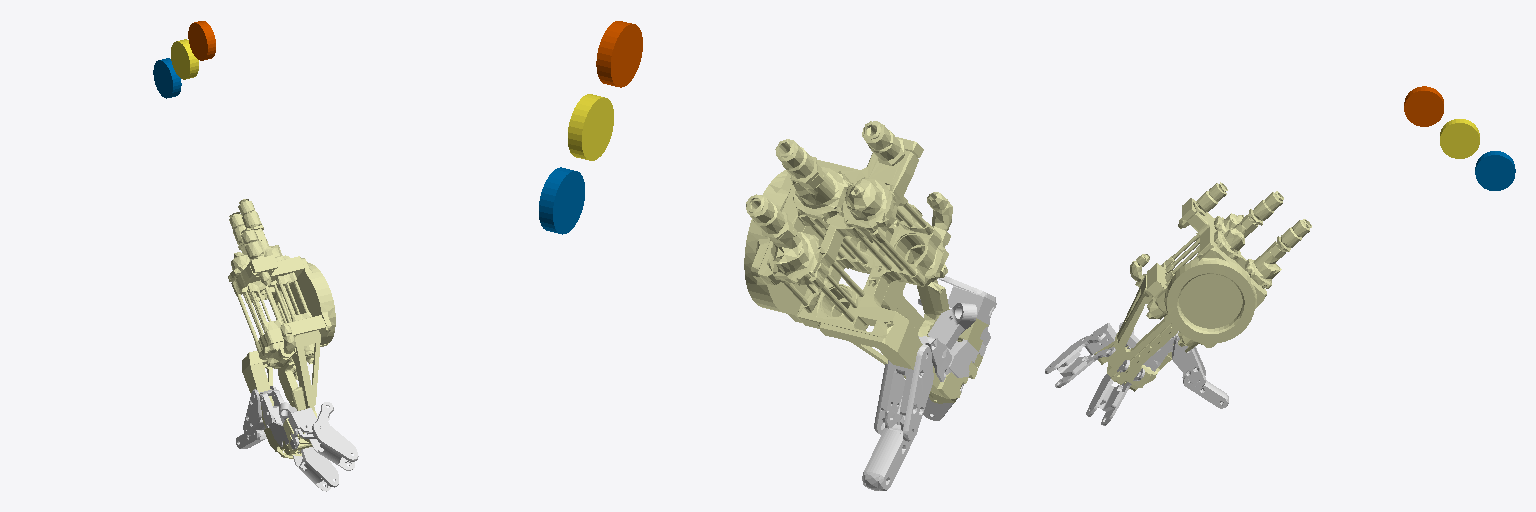
--- What the picture shows (computed from the rendered views, not written in the file) ---
Views: 3 orthographic renders of the robot side by side, from view 1: azimuth 30°, elevation 25°; view 2: azimuth 150°, elevation 25°; view 3: azimuth 270°, elevation 25°.
Robot: panda — 30 links, 29 joints (17 revolute, 12 fixed); root link panda_link0; default pose: joints at zero except 4 at the middle of their limits (panda_joint4 = -1.57, left_thumb_flex_motor_joint = -1.19, left_thumb_swivel_motor_joint = -1.18, left_index_flex_motor_joint = -1.19).
Visible links, largest first — view 1: left_gripper_base, left_middle_knuckle, left_index_knuckle, left_index_base_connector, left_index_flex_motor, left_thumb_flex_motor, left_thumb_swivel_motor, left_thumb_knuckle, left_thumb_base; view 2: left_gripper_base, left_thumb_knuckle, left_thumb_flex_motor, left_index_flex_motor, left_thumb_swivel_motor, left_thumb_finger, left_index_base_connector, left_thumb_swivel_link, left_thumb_base; view 3: left_gripper_base, left_middle_knuckle, left_index_flex_motor, left_thumb_flex_motor, left_thumb_swivel_motor, left_index_knuckle, left_thumb_knuckle, left_thumb_finger.
Link boxes in pixels (x1,y1,x2,y2): left_gripper_base: (228, 199, 335, 458); left_middle_knuckle: (309, 402, 358, 470); left_index_knuckle: (293, 447, 338, 491); left_index_base_connector: (269, 408, 320, 453); left_index_flex_motor: (188, 21, 215, 60); left_thumb_flex_motor: (171, 39, 198, 79); left_thumb_swivel_motor: (153, 58, 181, 98); left_thumb_knuckle: (243, 386, 276, 435); left_thumb_base: (259, 389, 283, 427); left_gripper_base: (744, 121, 988, 403); left_thumb_knuckle: (874, 344, 933, 441); left_thumb_flex_motor: (568, 94, 613, 160); left_index_flex_motor: (596, 21, 642, 87); left_thumb_swivel_motor: (539, 167, 584, 234); left_thumb_finger: (862, 405, 913, 490); left_index_base_connector: (947, 286, 996, 377); left_thumb_swivel_link: (928, 303, 976, 349); left_thumb_base: (918, 336, 953, 381); left_gripper_base: (1094, 182, 1311, 391); left_middle_knuckle: (1045, 333, 1115, 387); left_index_flex_motor: (1404, 86, 1443, 126); left_thumb_flex_motor: (1440, 119, 1479, 158); left_thumb_swivel_motor: (1475, 151, 1515, 190); left_index_knuckle: (1086, 360, 1144, 425); left_thumb_knuckle: (1172, 336, 1205, 386); left_thumb_finger: (1182, 374, 1228, 408).
Size in the robot's own frame: 0.0904 by 0.4684 by 0.3875 metres.
8 mesh visuals loaded from 16 distinct referenced files (7 OBJ); not drawn: 10 (reference not matched to a file when rendering).

robot.urdf — panda:
<?xml version="1.0" ?>
<!-- =================================================================================== -->
<!-- |    This document was autogenerated by xacro from panda.urdf.xacro               | -->
<!-- |    EDITING THIS FILE BY HAND IS NOT RECOMMENDED                                 | -->
<!-- =================================================================================== -->
<robot name="panda">
  <!-- sub-link defining detailed meshes for collision with environment -->
  <link name="panda_link0">
    <visual>
      <geometry>
        <mesh filename="package://avatar_robot_description/meshes/visual/link0.dae"/>
      </geometry>
    </visual>
    <collision>
      <geometry>
        <mesh filename="package://avatar_robot_description/meshes/collision/link0.stl"/>
      </geometry>
    </collision>
  </link>
  <!-- sub-link defining coarse geometries of real robot's internal self-collision -->
  <link name="panda_link0_sc">
    <collision>
      <origin rpy="0 1.5707963267948966 0" xyz="-0.075 0 0.06"/>
      <geometry>
        <cylinder length="0.03" radius="0.09"/>
      </geometry>
    </collision>
    <collision>
      <origin xyz="-0.06 0 0.06"/>
      <geometry>
        <sphere radius="0.09"/>
      </geometry>
    </collision>
    <collision>
      <origin xyz="-0.09 0 0.06"/>
      <geometry>
        <sphere radius="0.09"/>
      </geometry>
    </collision>
  </link>
  <!-- fixed joint between both sub-links -->
  <joint name="panda_link0_sc_joint" type="fixed">
    <origin rpy="0 0 0"/>
    <parent link="panda_link0"/>
    <child link="panda_link0_sc"/>
  </joint>
  <!-- sub-link defining detailed meshes for collision with environment -->
  <link name="panda_link1">
    <visual>
      <geometry>
        <mesh filename="package://avatar_robot_description/meshes/visual/link1.dae"/>
      </geometry>
    </visual>
    <collision>
      <geometry>
        <mesh filename="package://avatar_robot_description/meshes/collision/link1.stl"/>
      </geometry>
    </collision>
  </link>
  <!-- sub-link defining coarse geometries of real robot's internal self-collision -->
  <link name="panda_link1_sc">
    <collision>
      <origin rpy="0 0 0" xyz="0 0 -0.1915"/>
      <geometry>
        <cylinder length="0.283" radius="0.09"/>
      </geometry>
    </collision>
    <collision>
      <origin xyz="0 0 -0.05000000000000002"/>
      <geometry>
        <sphere radius="0.09"/>
      </geometry>
    </collision>
    <collision>
      <origin xyz="0 0 -0.33299999999999996"/>
      <geometry>
        <sphere radius="0.09"/>
      </geometry>
    </collision>
  </link>
  <!-- fixed joint between both sub-links -->
  <joint name="panda_link1_sc_joint" type="fixed">
    <origin rpy="0 0 0"/>
    <parent link="panda_link1"/>
    <child link="panda_link1_sc"/>
  </joint>
  <joint name="panda_joint1" type="revolute">
    <origin rpy="0 0 0" xyz="0 0 0.333"/>
    <parent link="panda_link0"/>
    <child link="panda_link1"/>
    <axis xyz="0 0 1"/>
    <limit effort="87.0" lower="-2.8973" upper="2.8973" velocity="2.175"/>
    <safety_controller k_position="100.0" k_velocity="40.0" soft_lower_limit="-2.8973" soft_upper_limit="2.8973"/>
    <dynamics D="1" K="7000" damping="0.003" friction="0.0" mu_coulomb="0" mu_viscous="16"/>
  </joint>
  <!-- sub-link defining detailed meshes for collision with environment -->
  <link name="panda_link2">
    <visual>
      <geometry>
        <mesh filename="package://avatar_robot_description/meshes/visual/link2.dae"/>
      </geometry>
    </visual>
    <collision>
      <geometry>
        <mesh filename="package://avatar_robot_description/meshes/collision/link2.stl"/>
      </geometry>
    </collision>
  </link>
  <!-- sub-link defining coarse geometries of real robot's internal self-collision -->
  <link name="panda_link2_sc">
    <collision>
      <origin rpy="0 0 0" xyz="0 0 0"/>
      <geometry>
        <cylinder length="0.12" radius="0.09"/>
      </geometry>
    </collision>
    <collision>
      <origin xyz="0 0 0.06"/>
      <geometry>
        <sphere radius="0.09"/>
      </geometry>
    </collision>
    <collision>
      <origin xyz="0 0 -0.06"/>
      <geometry>
        <sphere radius="0.09"/>
      </geometry>
    </collision>
  </link>
  <!-- fixed joint between both sub-links -->
  <joint name="panda_link2_sc_joint" type="fixed">
    <origin rpy="0 0 0"/>
    <parent link="panda_link2"/>
    <child link="panda_link2_sc"/>
  </joint>
  <joint name="panda_joint2" type="revolute">
    <origin rpy="-1.5707963267948966 0 0" xyz="0 0 0"/>
    <parent link="panda_link1"/>
    <child link="panda_link2"/>
    <axis xyz="0 0 1"/>
    <limit effort="87.0" lower="-1.7628" upper="1.7628" velocity="2.175"/>
    <safety_controller k_position="100.0" k_velocity="40.0" soft_lower_limit="-1.7628" soft_upper_limit="1.7628"/>
    <dynamics D="1" K="7000" damping="0.003" friction="0.0" mu_coulomb="0" mu_viscous="16"/>
  </joint>
  <!-- sub-link defining detailed meshes for collision with environment -->
  <link name="panda_link3">
    <visual>
      <geometry>
        <mesh filename="package://avatar_robot_description/meshes/visual/link3.dae"/>
      </geometry>
    </visual>
    <collision>
      <geometry>
        <mesh filename="package://avatar_robot_description/meshes/collision/link3.stl"/>
      </geometry>
    </collision>
  </link>
  <!-- sub-link defining coarse geometries of real robot's internal self-collision -->
  <link name="panda_link3_sc">
    <collision>
      <origin rpy="0 0 0" xyz="0 0 -0.145"/>
      <geometry>
        <cylinder length="0.15" radius="0.09"/>
      </geometry>
    </collision>
    <collision>
      <origin xyz="0 0 -0.06999999999999999"/>
      <geometry>
        <sphere radius="0.09"/>
      </geometry>
    </collision>
    <collision>
      <origin xyz="0 0 -0.21999999999999997"/>
      <geometry>
        <sphere radius="0.09"/>
      </geometry>
    </collision>
  </link>
  <!-- fixed joint between both sub-links -->
  <joint name="panda_link3_sc_joint" type="fixed">
    <origin rpy="0 0 0"/>
    <parent link="panda_link3"/>
    <child link="panda_link3_sc"/>
  </joint>
  <joint name="panda_joint3" type="revolute">
    <origin rpy="1.5707963267948966 0 0" xyz="0 -0.316 0"/>
    <parent link="panda_link2"/>
    <child link="panda_link3"/>
    <axis xyz="0 0 1"/>
    <limit effort="87.0" lower="-2.8973" upper="2.8973" velocity="2.175"/>
    <safety_controller k_position="100.0" k_velocity="40.0" soft_lower_limit="-2.8973" soft_upper_limit="2.8973"/>
    <dynamics D="1" K="7000" damping="0.003" friction="0.0" mu_coulomb="0" mu_viscous="16"/>
  </joint>
  <!-- sub-link defining detailed meshes for collision with environment -->
  <link name="panda_link4">
    <visual>
      <geometry>
        <mesh filename="package://avatar_robot_description/meshes/visual/link4.dae"/>
      </geometry>
    </visual>
    <collision>
      <geometry>
        <mesh filename="package://avatar_robot_description/meshes/collision/link4.stl"/>
      </geometry>
    </collision>
  </link>
  <!-- sub-link defining coarse geometries of real robot's internal self-collision -->
  <link name="panda_link4_sc">
    <collision>
      <origin rpy="0 0 0" xyz="0 0 0"/>
      <geometry>
        <cylinder length="0.12" radius="0.09"/>
      </geometry>
    </collision>
    <collision>
      <origin xyz="0 0 0.06"/>
      <geometry>
        <sphere radius="0.09"/>
      </geometry>
    </collision>
    <collision>
      <origin xyz="0 0 -0.06"/>
      <geometry>
        <sphere radius="0.09"/>
      </geometry>
    </collision>
  </link>
  <!-- fixed joint between both sub-links -->
  <joint name="panda_link4_sc_joint" type="fixed">
    <origin rpy="0 0 0"/>
    <parent link="panda_link4"/>
    <child link="panda_link4_sc"/>
  </joint>
  <joint name="panda_joint4" type="revolute">
    <origin rpy="1.5707963267948966 0 0" xyz="0.0825 0 0"/>
    <parent link="panda_link3"/>
    <child link="panda_link4"/>
    <axis xyz="0 0 1"/>
    <limit effort="87.0" lower="-3.0718" upper="-0.0698" velocity="2.175"/>
    <safety_controller k_position="100.0" k_velocity="40.0" soft_lower_limit="-3.0718" soft_upper_limit="-0.0698"/>
    <dynamics D="1" K="7000" damping="0.003" friction="0.0" mu_coulomb="0" mu_viscous="16"/>
  </joint>
  <!-- sub-link defining detailed meshes for collision with environment -->
  <link name="panda_link5">
    <visual>
      <geometry>
        <mesh filename="package://avatar_robot_description/meshes/visual/link5.dae"/>
      </geometry>
    </visual>
    <collision>
      <geometry>
        <mesh filename="package://avatar_robot_description/meshes/collision/link5.stl"/>
      </geometry>
    </collision>
  </link>
  <!-- sub-link defining coarse geometries of real robot's internal self-collision -->
  <link name="panda_link5_sc">
    <collision>
      <origin rpy="0 0 0" xyz="0 0 -0.26"/>
      <geometry>
        <cylinder length="0.1" radius="0.09"/>
      </geometry>
    </collision>
    <collision>
      <origin xyz="0 0 -0.21000000000000002"/>
      <geometry>
        <sphere radius="0.09"/>
      </geometry>
    </collision>
    <collision>
      <origin xyz="0 0 -0.31"/>
      <geometry>
        <sphere radius="0.09"/>
      </geometry>
    </collision>
    <collision>
      <origin rpy="0 0 0.08" xyz="0 0.08 -0.13"/>
      <geometry>
        <cylinder length="0.14" radius="0.055"/>
      </geometry>
    </collision>
    <collision>
      <origin xyz="0 0.08 -0.06"/>
      <geometry>
        <sphere radius="0.055"/>
      </geometry>
    </collision>
    <collision>
      <origin xyz="0 0.08 -0.2"/>
      <geometry>
        <sphere radius="0.055"/>
      </geometry>
    </collision>
  </link>
  <!-- fixed joint between both sub-links -->
  <joint name="panda_link5_sc_joint" type="fixed">
    <origin rpy="0 0 0"/>
    <parent link="panda_link5"/>
    <child link="panda_link5_sc"/>
  </joint>
  <joint name="panda_joint5" type="revolute">
    <origin rpy="-1.5707963267948966 0 0" xyz="-0.0825 0.384 0"/>
    <parent link="panda_link4"/>
    <child link="panda_link5"/>
    <axis xyz="0 0 1"/>
    <limit effort="12.0" lower="-2.8973" upper="2.8973" velocity="2.61"/>
    <safety_controller k_position="100.0" k_velocity="40.0" soft_lower_limit="-2.8973" soft_upper_limit="2.8973"/>
    <dynamics D="1" K="7000" damping="0.003" friction="0.0" mu_coulomb="0" mu_viscous="16"/>
  </joint>
  <!-- sub-link defining detailed meshes for collision with environment -->
  <link name="panda_link6">
    <visual>
      <geometry>
        <mesh filename="package://avatar_robot_description/meshes/visual/link6.dae"/>
      </geometry>
    </visual>
    <collision>
      <geometry>
        <mesh filename="package://avatar_robot_description/meshes/collision/link6.stl"/>
      </geometry>
    </collision>
  </link>
  <!-- sub-link defining coarse geometries of real robot's internal self-collision -->
  <link name="panda_link6_sc">
    <collision>
      <origin rpy="0 0 0" xyz="0 0 -0.03"/>
      <geometry>
        <cylinder length="0.08" radius="0.08"/>
      </geometry>
    </collision>
    <collision>
      <origin xyz="0 0 0.010000000000000002"/>
      <geometry>
        <sphere radius="0.08"/>
      </geometry>
    </collision>
    <collision>
      <origin xyz="0 0 -0.07"/>
      <geometry>
        <sphere radius="0.08"/>
      </geometry>
    </collision>
  </link>
  <!-- fixed joint between both sub-links -->
  <joint name="panda_link6_sc_joint" type="fixed">
    <origin rpy="0 0 0"/>
    <parent link="panda_link6"/>
    <child link="panda_link6_sc"/>
  </joint>
  <joint name="panda_joint6" type="revolute">
    <origin rpy="1.5707963267948966 0 0" xyz="0 0 0"/>
    <parent link="panda_link5"/>
    <child link="panda_link6"/>
    <axis xyz="0 0 1"/>
    <limit effort="12.0" lower="-0.0175" upper="3.7525" velocity="2.61"/>
    <safety_controller k_position="100.0" k_velocity="40.0" soft_lower_limit="-0.0175" soft_upper_limit="3.7525"/>
    <dynamics D="1" K="7000" damping="0.003" friction="0.0" mu_coulomb="0" mu_viscous="16"/>
  </joint>
  <!-- sub-link defining detailed meshes for collision with environment -->
  <link name="panda_link7">
    <visual>
      <geometry>
        <mesh filename="package://avatar_robot_description/meshes/visual/link7.dae"/>
      </geometry>
    </visual>
    <collision>
      <geometry>
        <mesh filename="package://avatar_robot_description/meshes/collision/link7.stl"/>
      </geometry>
    </collision>
  </link>
  <!-- sub-link defining coarse geometries of real robot's internal self-collision -->
  <link name="panda_link7_sc">
    <collision>
      <origin rpy="0 0 0" xyz="0 0 0.01"/>
      <geometry>
        <cylinder length="0.14" radius="0.07"/>
      </geometry>
    </collision>
    <collision>
      <origin xyz="0 0 0.08"/>
      <geometry>
        <sphere radius="0.07"/>
      </geometry>
    </collision>
    <collision>
      <origin xyz="0 0 -0.060000000000000005"/>
      <geometry>
        <sphere radius="0.07"/>
      </geometry>
    </collision>
    <collision>
      <origin rpy="0 1.5707963267948966 0" xyz="0.06 0 0.082"/>
      <geometry>
        <cylinder length="0.01" radius="0.06"/>
      </geometry>
    </collision>
    <collision>
      <origin xyz="0.065 0 0.082"/>
      <geometry>
        <sphere radius="0.06"/>
      </geometry>
    </collision>
    <collision>
      <origin xyz="0.055 0 0.082"/>
      <geometry>
        <sphere radius="0.06"/>
      </geometry>
    </collision>
  </link>
  <!-- fixed joint between both sub-links -->
  <joint name="panda_link7_sc_joint" type="fixed">
    <origin rpy="0 0 0.7853981633974483"/>
    <parent link="panda_link7"/>
    <child link="panda_link7_sc"/>
  </joint>
  <joint name="panda_joint7" type="revolute">
    <origin rpy="1.5707963267948966 0 0" xyz="0.088 0 0"/>
    <parent link="panda_link6"/>
    <child link="panda_link7"/>
    <axis xyz="0 0 1"/>
    <limit effort="12.0" lower="-2.8973" upper="2.8973" velocity="2.61"/>
    <safety_controller k_position="100.0" k_velocity="40.0" soft_lower_limit="-2.8973" soft_upper_limit="2.8973"/>
    <dynamics D="1" K="7000" damping="0.003" friction="0.0" mu_coulomb="0" mu_viscous="16"/>
  </joint>
  <link name="panda_link8"/>
  <joint name="panda_joint8" type="fixed">
    <origin rpy="0 0 0" xyz="0 0 0.107"/>
    <parent link="panda_link7"/>
    <child link="panda_link8"/>
  </joint>
  <link name="left_thumb_base">
    <inertial>
      <mass value="0.5"/>
      <inertia ixx="0.0" ixy="0.0" ixz="0.0" iyy="4E-5" iyz="0.0" izz="4E-5"/>
    </inertial>
    <visual>
      <origin rpy="0 0 0" xyz="0 0 0"/>
      <geometry>
        <mesh filename="package://avatar_gripper_description/meshes/thumb_base_extra.obj"/>
      </geometry>
      <material name="">
        <color rgba="0.9 0.9 0.9 1"/>
      </material>
    </visual>
    <collision>
      <origin rpy="0 0 0" xyz="0 0 0"/>
      <geometry>
        <mesh filename="package://avatar_gripper_description/meshes/thumb_base_extra.obj"/>
      </geometry>
    </collision>
  </link>
  <link name="left_thumb_knuckle">
    <inertial>
      <mass value="0.5"/>
      <inertia ixx="0.0" ixy="0.0" ixz="0.0" iyy="4E-5" iyz="0.0" izz="4E-5"/>
    </inertial>
    <visual>
      <origin rpy="0 0 0" xyz="0 0 0"/>
      <geometry>
        <mesh filename="package://avatar_gripper_description/meshes/thumb_knuckle.obj"/>
      </geometry>
      <material name="">
        <color rgba="0.9 0.9 0.9 1"/>
      </material>
    </visual>
    <collision>
      <origin rpy="0 0 0" xyz="0 0 0"/>
      <geometry>
        <mesh filename="package://avatar_gripper_description/meshes/thumb_knuckle.obj"/>
      </geometry>
    </collision>
  </link>
  <joint name="left_thumb_knuckle_joint" type="revolute">
    <origin rpy="0 2.75 0" xyz="0 0 0"/>
    <parent link="left_thumb_base"/>
    <child link="left_thumb_knuckle"/>
    <axis xyz="0 1 0"/>
    <limit effort="1000" lower="-1.0" upper="0.4" velocity="2.0"/>
  </joint>
  <link name="left_thumb_finger">
    <inertial>
      <mass value="0.5"/>
      <inertia ixx="0.0" ixy="0.0" ixz="0.0" iyy="4E-5" iyz="0.0" izz="4E-5"/>
    </inertial>
    <visual>
      <origin rpy="0 0 0" xyz="0 0 0"/>
      <geometry>
        <mesh filename="package://avatar_gripper_description/meshes/thumb_fingertip.obj"/>
      </geometry>
      <material name="">
        <color rgba="0.9 0.9 0.9 1"/>
      </material>
    </visual>
    <collision>
      <origin rpy="0 0 0" xyz="0 0 0"/>
      <geometry>
        <mesh filename="package://avatar_gripper_description/meshes/thumb_fingertip.obj"/>
      </geometry>
    </collision>
  </link>
  <joint name="left_thumb_finger_joint" type="revolute">
    <origin rpy="0 0.57 0" xyz="0.04568 0 0.01106"/>
    <parent link="left_thumb_knuckle"/>
    <child link="left_thumb_finger"/>
    <axis xyz="0 1 0"/>
    <limit effort="1000" lower="-0.8" upper="0" velocity="2.0"/>
  </joint>
  <link name="left_thumb_swivel_link">
    <visual>
      <origin rpy="0 0 0" xyz="0 0 0"/>
      <geometry>
        <mesh filename="package://avatar_gripper_description/meshes/thumb_swivel_link.obj"/>
      </geometry>
      <material name="">
        <color rgba="0.9 0.9 0.9 1"/>
      </material>
    </visual>
  </link>
  <joint name="left_thumb_swivel_joint" type="revolute">
    <origin rpy="0 0 0" xyz="0 0 0.0173"/>
    <parent link="left_index_base_connector"/>
    <child link="left_thumb_swivel_link"/>
    <axis xyz="0 0 1"/>
    <limit effort="1000" lower="0" upper="1.7" velocity="2.0"/>
  </joint>
  <joint name="left_thumb_base_swivel_joint" type="fixed">
    <origin rpy="0 0 0" xyz="-0.03742 0 0.05089"/>
    <parent link="left_thumb_swivel_link"/>
    <child link="left_thumb_base"/>
  </joint>
  <link name="left_index_base_connector">
    <visual>
      <origin rpy="0 0 0" xyz="0 0 0"/>
      <geometry>
        <mesh filename="package://avatar_gripper_description/meshes/index_base_connector.obj"/>
      </geometry>
      <material name="">
        <color rgba="0.9 0.9 0.9 1"/>
      </material>
    </visual>
  </link>
  <link name="left_index_knuckle">
    <inertial>
      <mass value="0.5"/>
      <inertia ixx="0.0" ixy="0.0" ixz="0.0" iyy="4E-5" iyz="0.0" izz="4E-5"/>
    </inertial>
    <visual>
      <origin rpy="0 0 0" xyz="0 0 0"/>
      <geometry>
        <mesh filename="package://avatar_gripper_description/meshes/index_knuckle.obj"/>
      </geometry>
      <material name="">
        <color rgba="0.9 0.9 0.9 1"/>
      </material>
    </visual>
    <collision>
      <origin rpy="0 0 0" xyz="0 0 0"/>
      <geometry>
        <mesh filename="package://avatar_gripper_description/meshes/index_knuckle.obj"/>
      </geometry>
    </collision>
  </link>
  <joint name="left_index_knuckle_joint" type="revolute">
    <origin rpy="1.94428593 1.07478656 1.98996937" xyz="-0.021564878 0.008545 -0.0024358"/>
    <parent link="left_index_base_connector"/>
    <child link="left_index_knuckle"/>
    <axis xyz="0 0 1"/>
    <limit effort="1000" lower="-0.8" upper="0" velocity="2.0"/>
  </joint>
  <link name="left_index_fingertip">
    <inertial>
      <mass value="0.5"/>
      <inertia ixx="0.0" ixy="0.0" ixz="0.0" iyy="4E-5" iyz="0.0" izz="4E-5"/>
    </inertial>
    <visual>
      <origin rpy="0 0 0" xyz="0 0 0"/>
      <geometry>
        <mesh filename="package://avatar_gripper_description/meshes/index_fingertip.obj"/>
      </geometry>
      <material name="">
        <color rgba="0.9 0.9 0.9 1"/>
      </material>
    </visual>
    <collision>
      <origin rpy="0 0 0" xyz="0 0 0"/>
      <geometry>
        <mesh filename="package://avatar_gripper_description/meshes/index_fingertip.obj"/>
      </geometry>
    </collision>
  </link>
  <joint name="left_index_fingertip_joint" type="revolute">
    <origin rpy="0 0 -0.35" xyz="0.0353829 -0.02780 0"/>
    <parent link="left_index_knuckle"/>
    <child link="left_index_fingertip"/>
    <axis xyz="0 0 1"/>
    <limit effort="1000" lower="-0.8" upper="0" velocity="2.0"/>
  </joint>
  <link name="left_middle_knuckle">
    <inertial>
      <mass value="0.5"/>
      <inertia ixx="0.0" ixy="0.0" ixz="0.0" iyy="4E-5" iyz="0.0" izz="4E-5"/>
    </inertial>
    <visual>
      <origin rpy="0 0 0" xyz="0 0 0"/>
      <geometry>
        <mesh filename="package://avatar_gripper_description/meshes/index_knuckle.obj"/>
      </geometry>
      <material name="">
        <color rgba="0.9 0.9 0.9 1"/>
      </material>
    </visual>
    <collision>
      <origin rpy="0 0 0" xyz="0 0 0"/>
      <geometry>
        <mesh filename="package://avatar_gripper_description/meshes/index_knuckle.obj"/>
      </geometry>
    </collision>
  </link>
  <joint name="left_middle_knuckle_joint" type="revolute">
    <origin rpy="1.19730672 1.07478656 1.15162329" xyz="0.02156 0.008545 -0.0024358"/>
    <parent link="left_index_base_connector"/>
    <child link="left_middle_knuckle"/>
    <axis xyz="0 0 1"/>
    <limit effort="1000" lower="-0.8" upper="0" velocity="2.0"/>
  </joint>
  <link name="left_middle_fingertip">
    <inertial>
      <mass value="0.5"/>
      <inertia ixx="0.0" ixy="0.0" ixz="0.0" iyy="4E-5" iyz="0.0" izz="4E-5"/>
    </inertial>
    <visual>
      <origin rpy="0 0 0" xyz="0 0 0"/>
      <geometry>
        <mesh filename="package://avatar_gripper_description/meshes/index_fingertip.obj"/>
      </geometry>
      <material name="">
        <color rgba="0.9 0.9 0.9 1"/>
      </material>
    </visual>
    <collision>
      <origin rpy="0 0 0" xyz="0 0 0"/>
      <geometry>
        <mesh filename="package://avatar_gripper_description/meshes/index_fingertip.obj"/>
      </geometry>
    </collision>
  </link>
  <joint name="left_middle_fingertip_joint" type="revolute">
    <origin rpy="0 0 -0.35" xyz="0.0353829 -0.02780 0"/>
    <parent link="left_middle_knuckle"/>
    <child link="left_middle_fingertip"/>
    <axis xyz="0 0 1"/>
    <limit effort="1000" lower="-0.8" upper="0" velocity="2.0"/>
  </joint>
  <link name="left_gripper_base">
    <inertial>
      <mass value="2.0"/>
      <inertia ixx="7.11E-3" ixy="0.0" ixz="0.0" iyy="7.11E-3" iyz="0.0" izz="7.11E-3"/>
    </inertial>
    <visual>
      <origin rpy="0 0 0" xyz="0 0 0"/>
      <geometry>
        <mesh filename="package://avatar_gripper_description/meshes/gripper_base.obj"/>
      </geometry>
      <material name="">
        <color rgba="0.9 0.9 0.7 1"/>
      </material>
    </visual>
  </link>
  <joint name="left_gripper_base_joint" type="fixed">
    <origin rpy="1.57 0 0" xyz="0.00736 0.139 -0.066017"/>
    <parent link="left_gripper_base"/>
    <child link="left_index_base_connector"/>
  </joint>
  <link name="left_thumb_flex_motor">
    <inertial>
      <mass value="0.25"/>
      <inertia ixx="1.463E-04" ixy="0" ixz="0" iyy="1.463E-04" iyz="0" izz="1.463E-04"/>
    </inertial>
    <visual>
      <origin rpy="0 0 0" xyz="0 0 0"/>
      <geometry>
        <cylinder length="0.01" radius="0.02"/>
      </geometry>
    </visual>
  </link>
  <joint name="left_thumb_flex_motor_joint" type="revolute">
    <origin rpy="0 0 0" xyz="-0.05 -0.3 0"/>
    <parent link="left_gripper_base"/>
    <child link="left_thumb_flex_motor"/>
    <axis xyz="0 0 1"/>
    <limit effort="1000" lower="-2.3" upper="-0.08" velocity="2.0"/>
  </joint>
  <link name="left_thumb_swivel_motor">
    <inertial>
      <mass value="0.25"/>
      <inertia ixx="1.463E-04" ixy="0" ixz="0" iyy="1.463E-04" iyz="0" izz="1.463E-04"/>
    </inertial>
    <visual>
      <origin rpy="0 0 0" xyz="0 0 0"/>
      <geometry>
        <cylinder length="0.01" radius="0.02"/>
      </geometry>
    </visual>
  </link>
  <joint name="left_thumb_swivel_motor_joint" type="revolute">
    <origin rpy="0 0 0" xyz="-0.1 -0.3 0"/>
    <parent link="left_gripper_base"/>
    <child link="left_thumb_swivel_motor"/>
    <axis xyz="0 0 1"/>
    <limit effort="1000" lower="-2.3" upper="-0.05" velocity="2.0"/>
  </joint>
  <link name="left_index_flex_motor">
    <inertial>
      <mass value="0.25"/>
      <inertia ixx="1.463E-04" ixy="0" ixz="0" iyy="1.463E-04" iyz="0" izz="1.463E-04"/>
    </inertial>
    <visual>
      <origin rpy="0 0 0" xyz="0 0 0"/>
      <geometry>
        <cylinder length="0.01" radius="0.02"/>
      </geometry>
    </visual>
  </link>
  <joint name="left_index_flex_motor_joint" type="revolute">
    <origin rpy="0 0 0" xyz="0 -0.3 0"/>
    <parent link="left_gripper_base"/>
    <child link="left_index_flex_motor"/>
    <axis xyz="0 0 1"/>
    <limit effort="1000" lower="-2.3" upper="-0.08" velocity="2.0"/>
  </joint>
  <joint name="panda_gripper_joint" type="fixed">
    <parent link="panda_link8"/>
    <child link="left_gripper_base"/>
    <origin rpy="0 3.141592653589793 -0.7853981633974483" xyz="0 0 0"/>
  </joint>
</robot>
